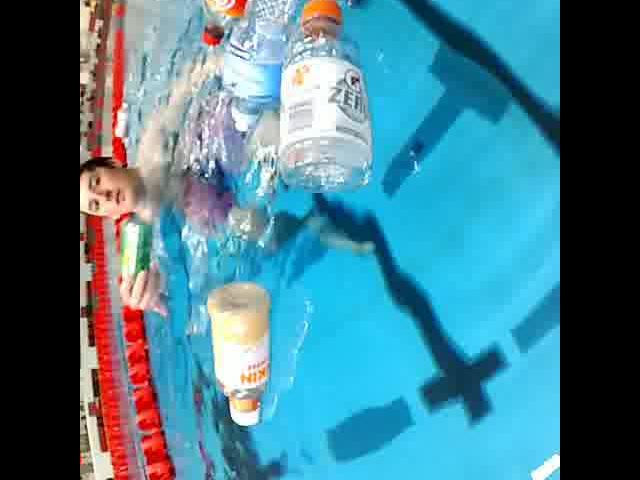Bottle: (275, 0, 373, 197), (220, 0, 350, 135), (203, 272, 280, 428), (196, 0, 286, 49)
Can: (116, 216, 156, 288)
